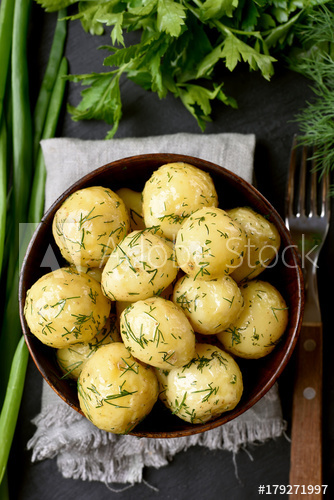boiled potatoes: (24, 171, 292, 434)
